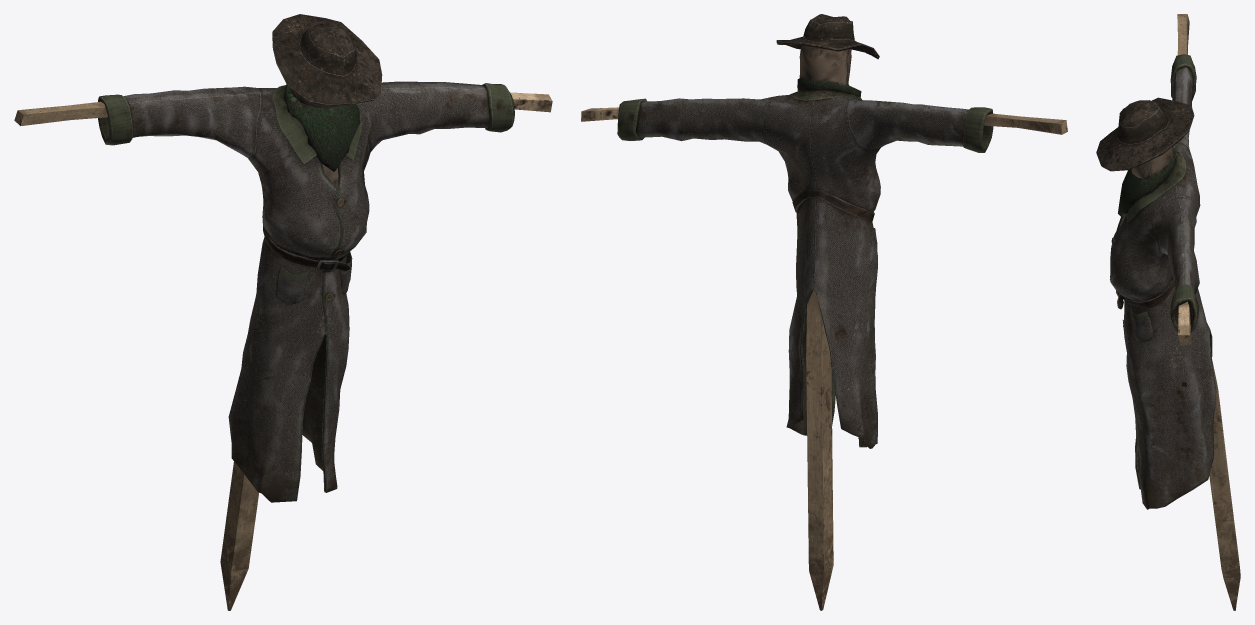
Rendered from scarecrow.gltf.
3 renders of one model, left to right at view 1: azimuth 30°, elevation 25°; view 2: azimuth 150°, elevation 25°; view 3: azimuth 270°, elevation 25°, orthographic. The views are drawn at different scales.
Visible parts, largest first — view 1: coat, hat, scarecrow_stake, scarf, belt; view 2: coat, scarecrow_stake, hat, sack_head, belt; view 3: coat, hat, scarecrow_stake, scarf, sack_head, belt.
Boxes of the visible parts, <box> form: coat: <box>98,81,514,502</box>; hat: <box>272,14,382,105</box>; scarecrow_stake: <box>14,92,552,610</box>; scarf: <box>283,84,360,171</box>; belt: <box>263,226,350,271</box>; coat: <box>617,90,993,448</box>; scarecrow_stake: <box>581,106,1067,610</box>; hat: <box>776,14,879,59</box>; sack_head: <box>799,45,851,85</box>; belt: <box>792,188,874,221</box>; coat: <box>1110,54,1216,509</box>; hat: <box>1096,97,1194,171</box>; scarecrow_stake: <box>1177,14,1240,610</box>; scarf: <box>1118,149,1176,216</box>; sack_head: <box>1131,147,1172,179</box>; belt: <box>1117,278,1174,309</box>.
Bounding box in the file's own units: 0.0316 × 0.0345 × 0.00863.
1 material, 1 textured.
